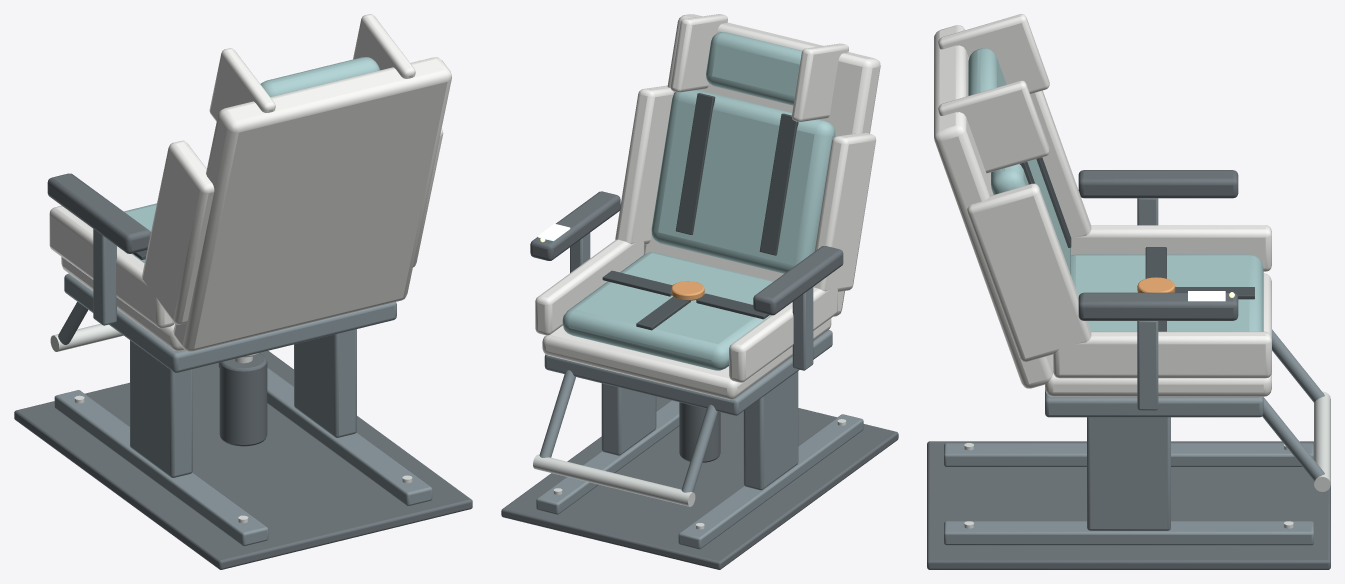
Rendered from landing_seat.glb.
3 views of the same model, side by side, from view 1: azimuth 30°, elevation 25°; view 2: azimuth 150°, elevation 25°; view 3: azimuth 270°, elevation 25° (orthographic). The views are drawn at different scales.
Parts seen in each view (by area): view 1: back_shell_white_painted, base_plate_graphite, back_wing_l_white_painted, strut_l_dark_alloy, rail_l_dark_alloy, seat_frame_dark_alloy, strut_r_dark_alloy, rail_r_dark_alloy, seat_bolster_l_white_painted, damper_body_graphite, armrest_l_graphite, head_wing_l_white_painted (+6 smaller); view 2: base_plate_graphite, back_cushion_teal_soft, seat_cushion_teal_soft, back_shell_white_painted, back_wing_l_white_painted, seat_shell_white_painted, back_wing_r_white_painted, head_cushion_teal_soft, strut_l_dark_alloy, rail_l_dark_alloy, seat_frame_dark_alloy, seat_bolster_l_white_painted (+19 smaller); view 3: base_plate_graphite, back_wing_r_white_painted, strut_r_dark_alloy, seat_bolster_r_white_painted, rail_r_dark_alloy, seat_cushion_teal_soft, back_shell_white_painted, rail_l_dark_alloy, seat_bolster_l_white_painted, head_wing_r_white_painted, armrest_l_graphite, seat_shell_white_painted (+15 smaller).
Boxes of the visible parts, left/top/right/bottom form: back_shell_white_painted: left=173, top=57, right=451, bottom=351; base_plate_graphite: left=14, top=351, right=472, bottom=569; back_wing_l_white_painted: left=142, top=140, right=214, bottom=324; strut_l_dark_alloy: left=130, top=340, right=192, bottom=477; rail_l_dark_alloy: left=54, top=390, right=268, bottom=546; seat_frame_dark_alloy: left=64, top=273, right=396, bottom=372; strut_r_dark_alloy: left=294, top=329, right=356, bottom=437; rail_r_dark_alloy: left=218, top=362, right=432, bottom=505; seat_bolster_l_white_painted: left=49, top=205, right=174, bottom=328; damper_body_graphite: left=219, top=353, right=267, bottom=446; armrest_l_graphite: left=47, top=173, right=150, bottom=253; head_wing_l_white_painted: left=209, top=48, right=275, bottom=121; base_plate_graphite: left=501, top=396, right=898, bottom=569; back_cushion_teal_soft: left=651, top=90, right=835, bottom=273; seat_cushion_teal_soft: left=562, top=252, right=773, bottom=370; back_shell_white_painted: left=644, top=14, right=880, bottom=316; back_wing_l_white_painted: left=813, top=133, right=876, bottom=291; seat_shell_white_painted: left=542, top=318, right=831, bottom=399; back_wing_r_white_painted: left=615, top=85, right=673, bottom=244; head_cushion_teal_soft: left=706, top=32, right=802, bottom=105; strut_l_dark_alloy: left=743, top=371, right=798, bottom=490; rail_l_dark_alloy: left=678, top=414, right=863, bottom=549; seat_frame_dark_alloy: left=544, top=330, right=832, bottom=415; seat_bolster_l_white_painted: left=729, top=285, right=837, bottom=382; base_plate_graphite: left=927, top=441, right=1330, bottom=569; back_wing_r_white_painted: left=967, top=183, right=1091, bottom=361; strut_r_dark_alloy: left=1087, top=417, right=1170, bottom=530; seat_bolster_r_white_painted: left=1053, top=331, right=1271, bottom=378; rail_r_dark_alloy: left=944, top=521, right=1313, bottom=545; seat_cushion_teal_soft: left=1071, top=254, right=1263, bottom=331; back_shell_white_painted: left=934, top=25, right=1053, bottom=388; rail_l_dark_alloy: left=944, top=443, right=1313, bottom=466; seat_bolster_l_white_painted: left=1071, top=225, right=1271, bottom=271; head_wing_r_white_painted: left=938, top=80, right=1049, bottom=173; armrest_l_graphite: left=1078, top=170, right=1238, bottom=198; seat_shell_white_painted: left=1045, top=273, right=1271, bottom=396.
Bounding box in the file's own units: 0.76 × 1.21 × 0.96.
